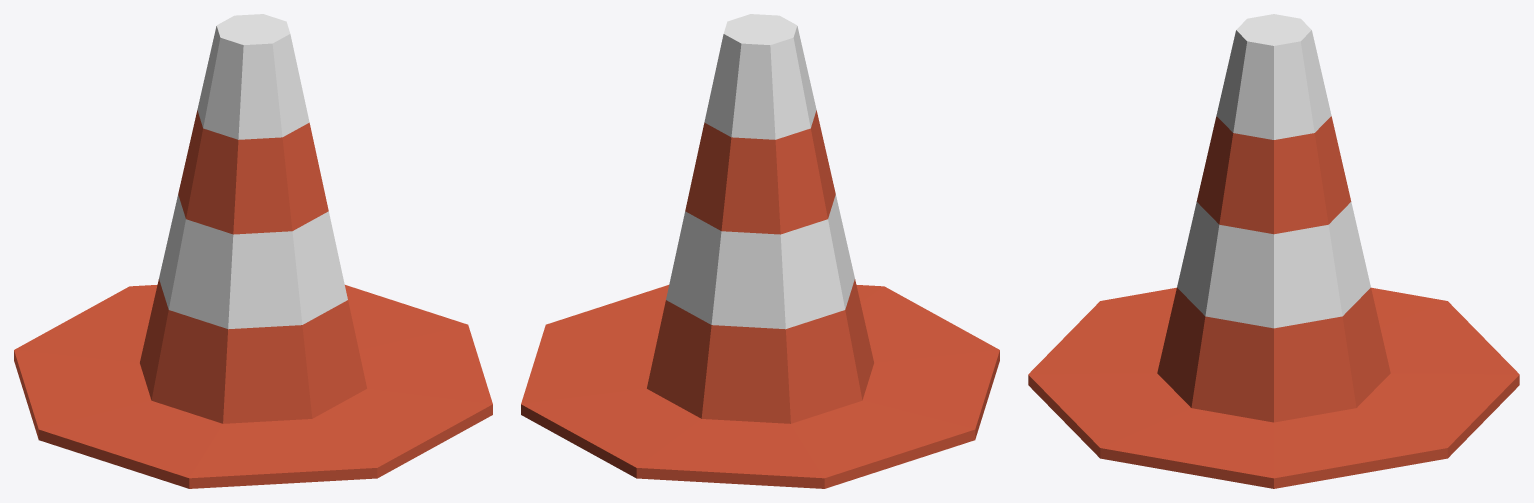
3 views of the same model, side by side, from view 1: azimuth 30°, elevation 25°; view 2: azimuth 150°, elevation 25°; view 3: azimuth 270°, elevation 25° (orthographic).
Parts seen in each view (by area): view 1: Cone_01_Cylinder; view 2: Cone_01_Cylinder; view 3: Cone_01_Cylinder.
Part boxes in pixels (x1=…): Cone_01_Cylinder: x1=14, y1=14, x2=492, y2=488; Cone_01_Cylinder: x1=521, y1=14, x2=999, y2=488; Cone_01_Cylinder: x1=1028, y1=14, x2=1519, y2=488.
Size of the model in its own units: 2.6 by 2.07 by 2.6.
